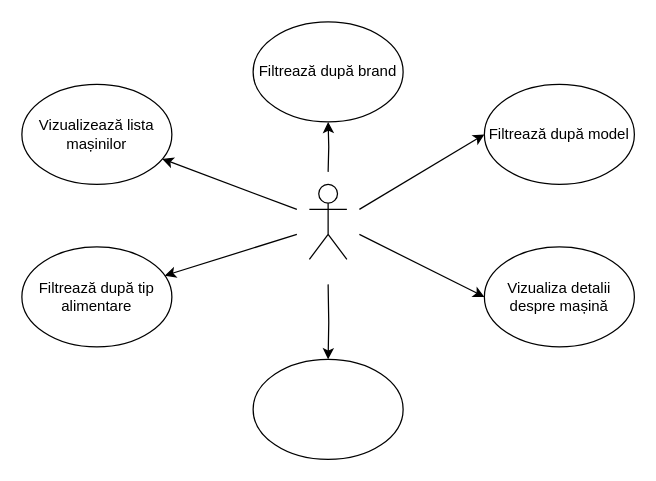
Some shapes in this 656 by 481 pixel diagram are drawn without their labels. Each missing label, with the centre of its shape:
Filtrează după an: (327,408)
Vizitator: (327,221)
